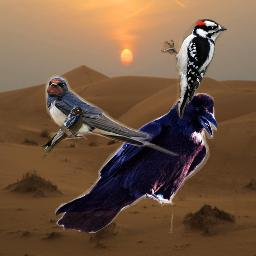Crow: (55, 93, 217, 233)
Swallow: (45, 75, 179, 156), (41, 106, 83, 160)
Woodpecker: (161, 19, 227, 119)
